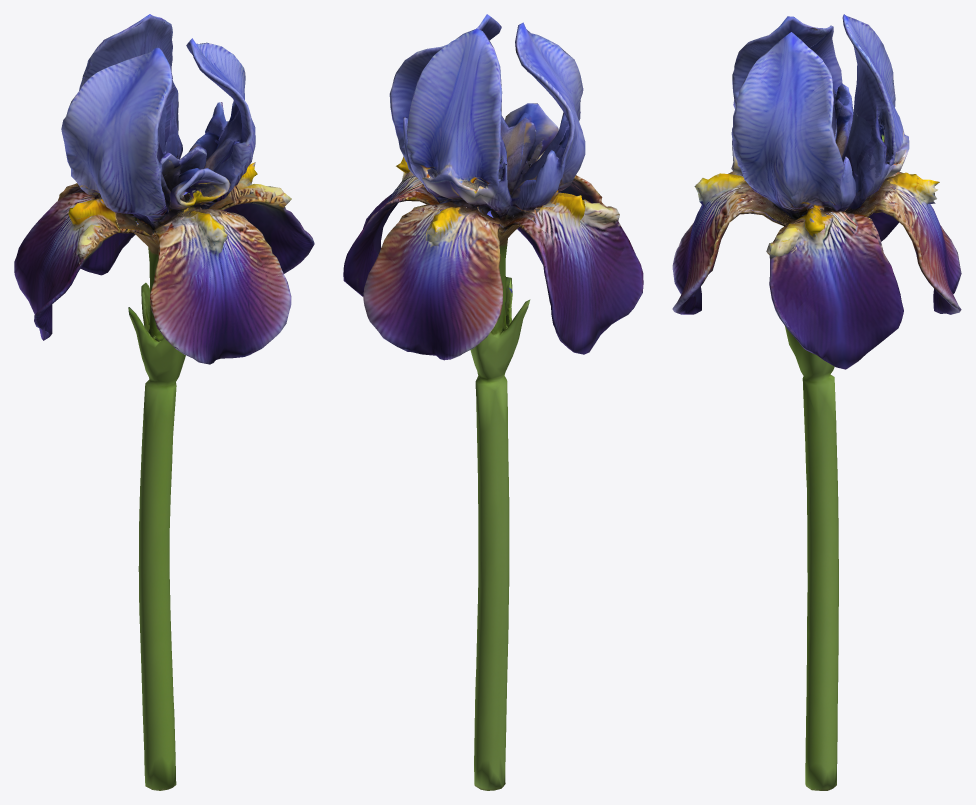
File: Irys.glb
3 views of the same model, side by side, from view 1: azimuth 30°, elevation 25°; view 2: azimuth 150°, elevation 25°; view 3: azimuth 270°, elevation 25° (orthographic).
Visible parts, largest first — view 1: Mesh_0; view 2: Mesh_0; view 3: Mesh_0.
Boxes of the visible parts, x1,y1,x2,y2 form: Mesh_0: (14, 14, 314, 790); Mesh_0: (343, 14, 643, 790); Mesh_0: (672, 14, 961, 790).
Bounding box in the file's own units: 0.2665 × 0.7 × 0.2381.
1 material, 1 textured.
